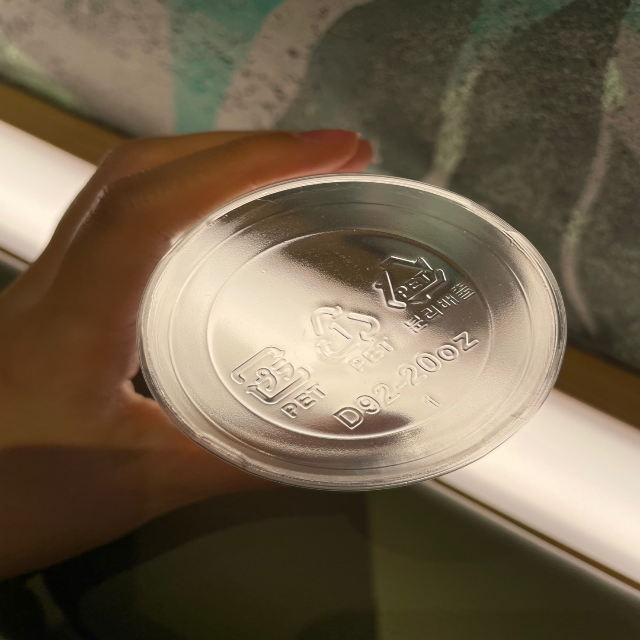pet: (377, 243, 477, 333), (232, 341, 328, 420), (304, 303, 394, 373)
